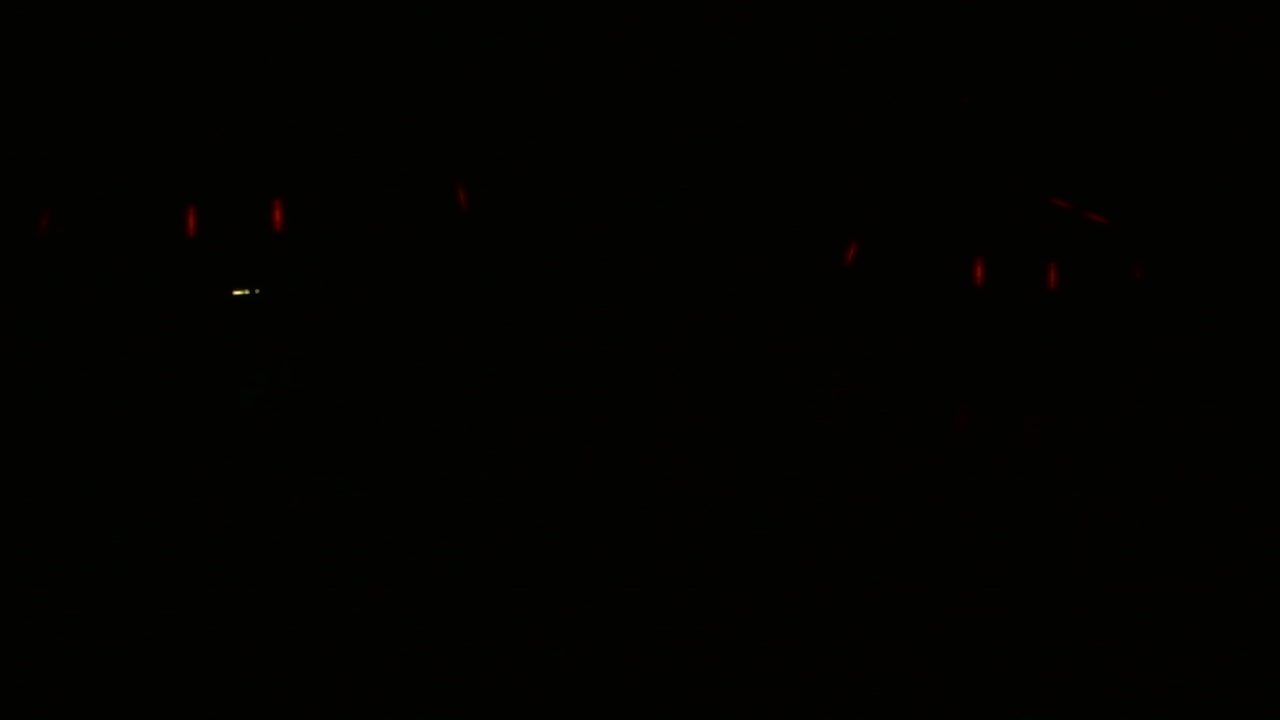pair1: (181, 197, 290, 239), (966, 258, 1066, 293)
